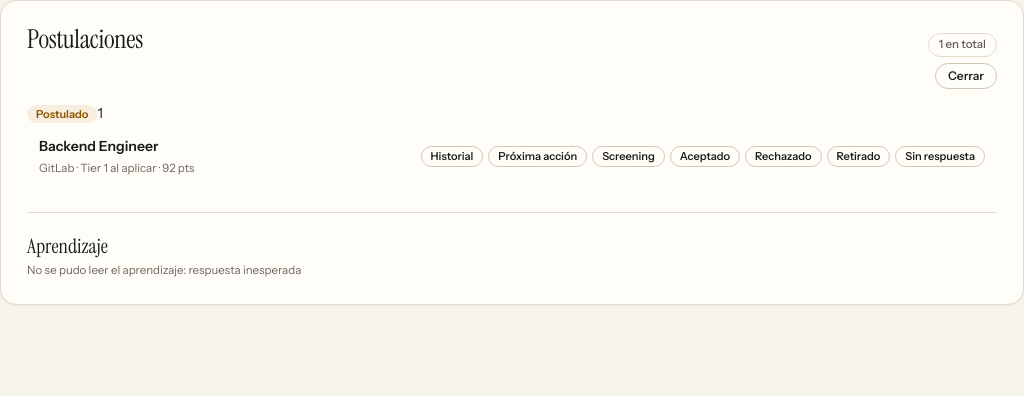
it: Pipeline — próxima acción (Fase 9) › editar manda el PATCH con el texto y la fecha, y avisa que algo cambió
Click the button "Próxima acción" at (538, 157), box [488,146,587,167]
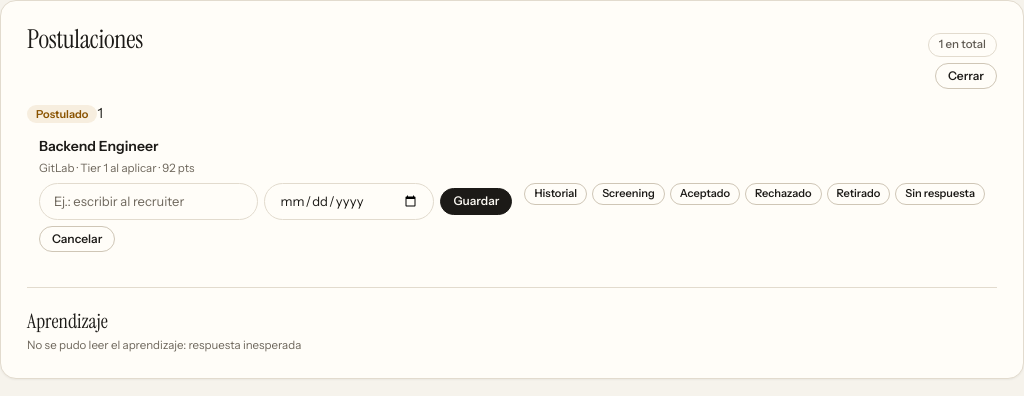
Type "  escribir al recruiter  " into the field named "Próxima acción" at (149, 201), box [39,183,258,220]
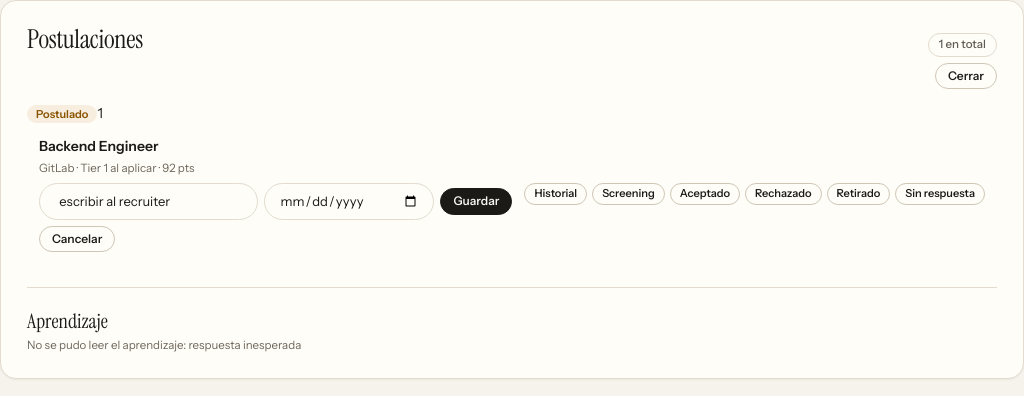
Type "2020-02-02" into the date field named "Fecha de la próxima acción" at (350, 201), box [264,183,434,220]
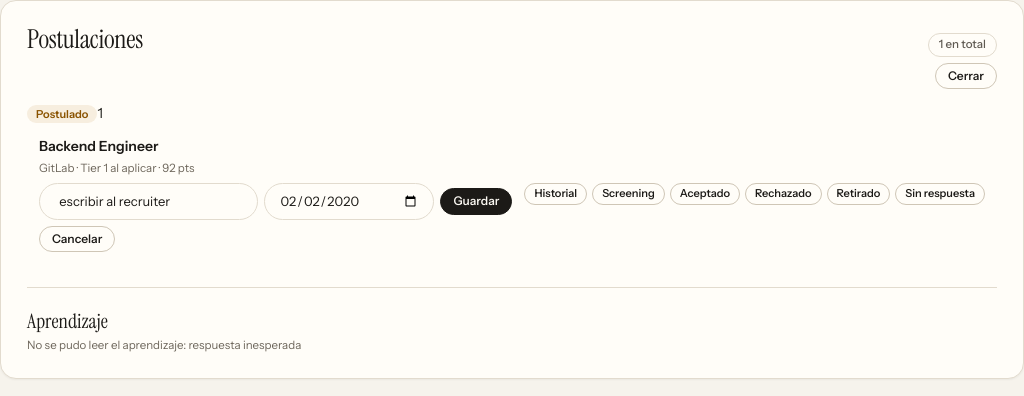
Click the button "Guardar" at (476, 202), box [440,188,512,215]
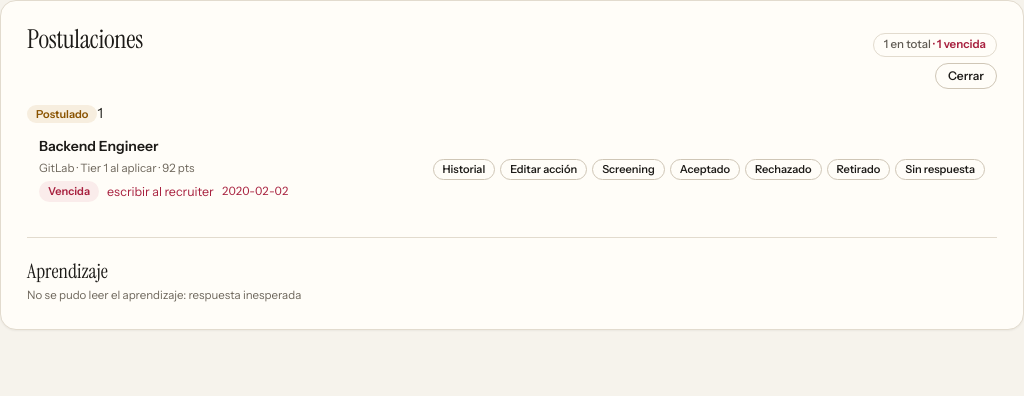
Expected: the button labelled "Próxima acción" is not shown
Now the text "Vencida" is shown, box [39,181,99,202]
